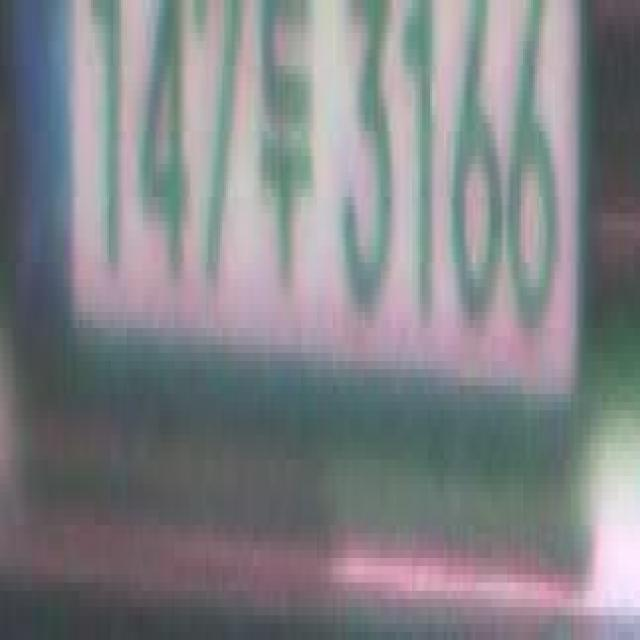illegal_plate: (12, 4, 606, 474)
